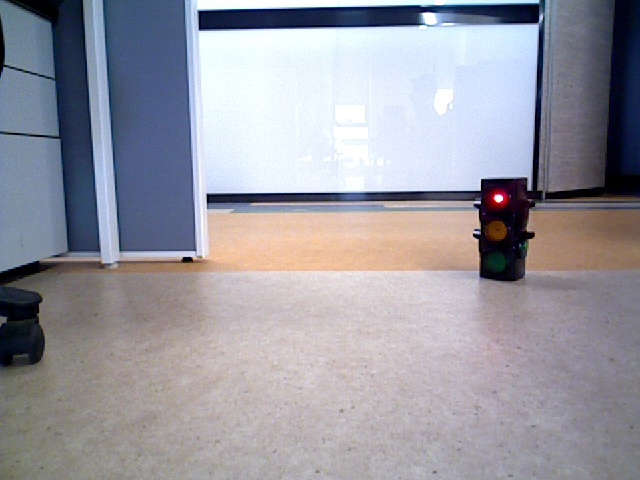red: (482, 181, 515, 278)
